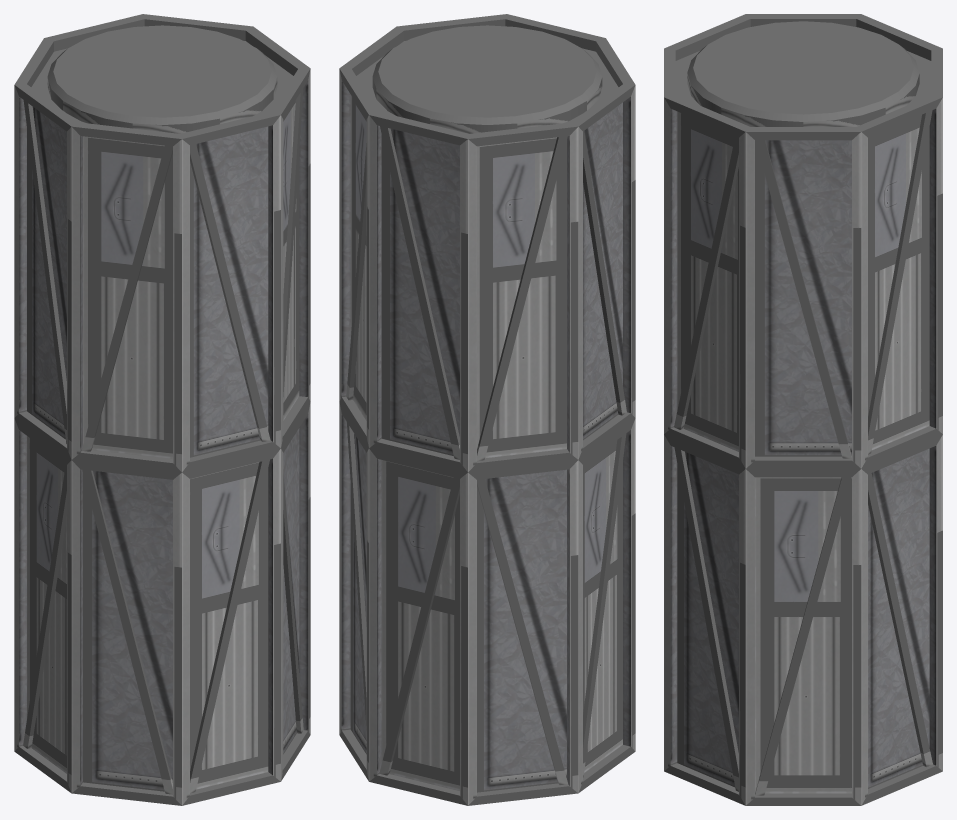
Rendered from nashira_truss_s1_2.obj.
3 views of the same model, side by side, from view 1: azimuth 30°, elevation 25°; view 2: azimuth 150°, elevation 25°; view 3: azimuth 270°, elevation 25° (orthographic).
Visible parts, largest first — view 1: nashira_truss_s1_2; view 2: nashira_truss_s1_2; view 3: nashira_truss_s1_2.
Boxes of the visible parts, <box> form: nashira_truss_s1_2: <box>14,14,310,805</box>; nashira_truss_s1_2: <box>339,14,635,805</box>; nashira_truss_s1_2: <box>664,14,942,805</box>.
Size of the model in its own units: 1.5 by 4.06 by 1.5.
